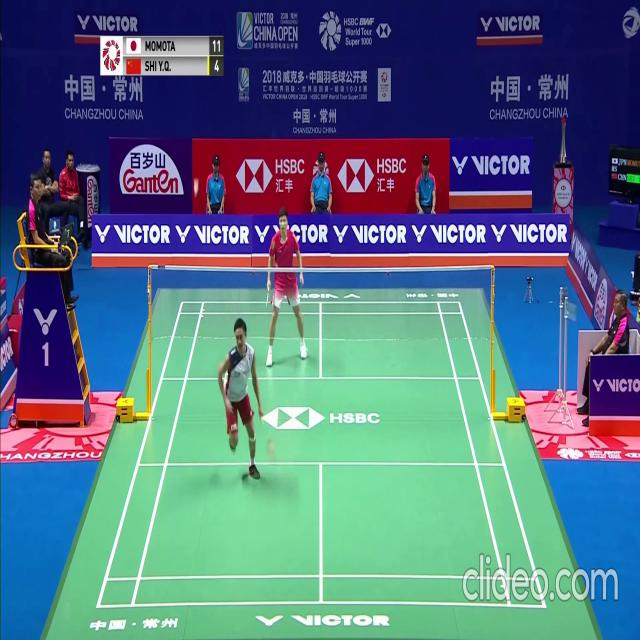Shuttlecock: (193, 190, 198, 198)
